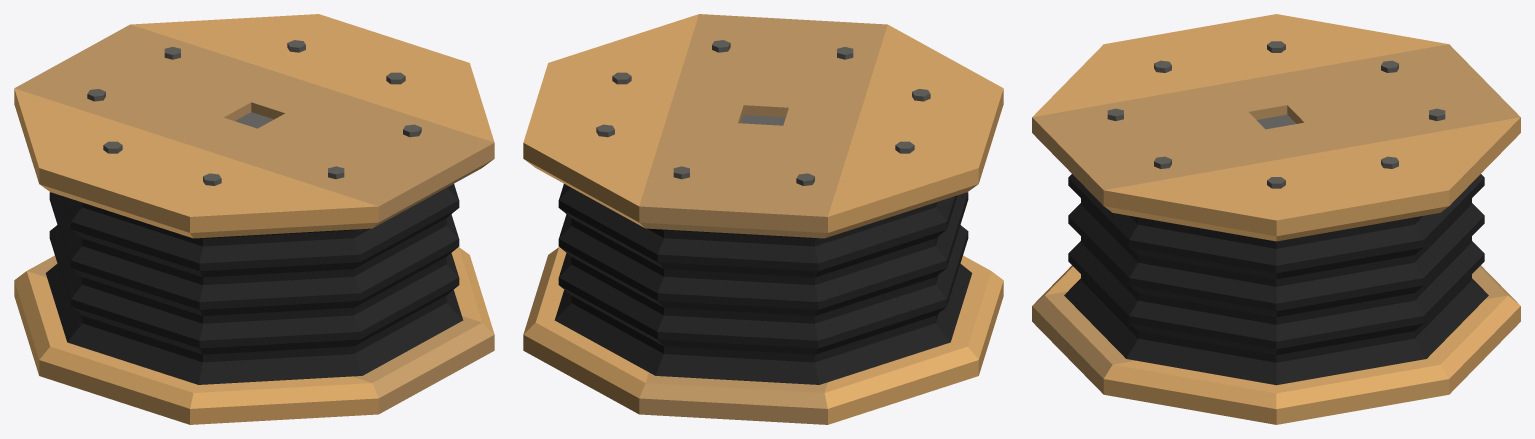
File: Reel.fbx
3 views of the same model, side by side, from view 1: azimuth 30°, elevation 25°; view 2: azimuth 150°, elevation 25°; view 3: azimuth 270°, elevation 25° (orthographic).
Visible parts, largest first — view 1: isl_Reel_01_DEF.obj; view 2: isl_Reel_01_DEF.obj; view 3: isl_Reel_01_DEF.obj.
Part boxes in pixels (box(x1,y1,x2,y2)): isl_Reel_01_DEF.obj: box(14, 14, 494, 424); isl_Reel_01_DEF.obj: box(523, 14, 1003, 424); isl_Reel_01_DEF.obj: box(1032, 14, 1520, 424).
Bounding box in the file's own units: 259 × 125 × 259.
